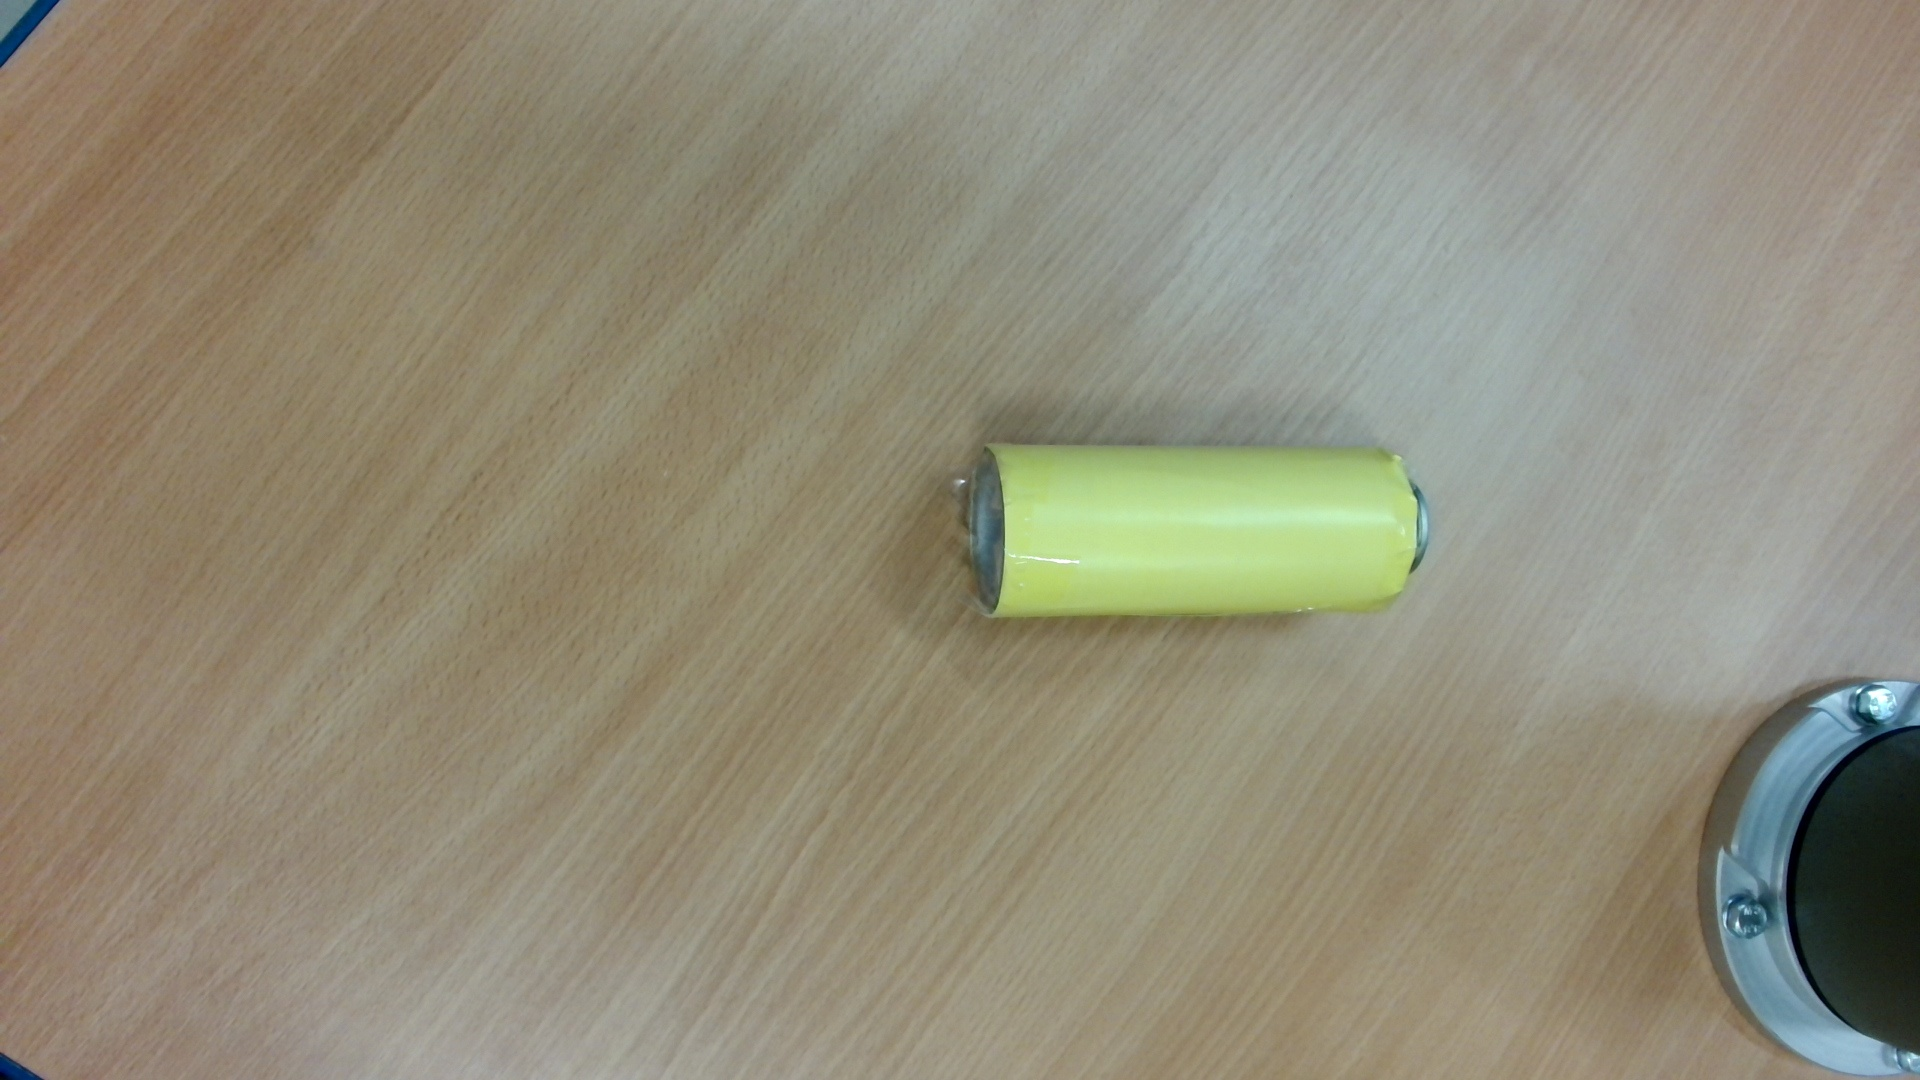Cylinder: (938, 425, 1453, 630)
